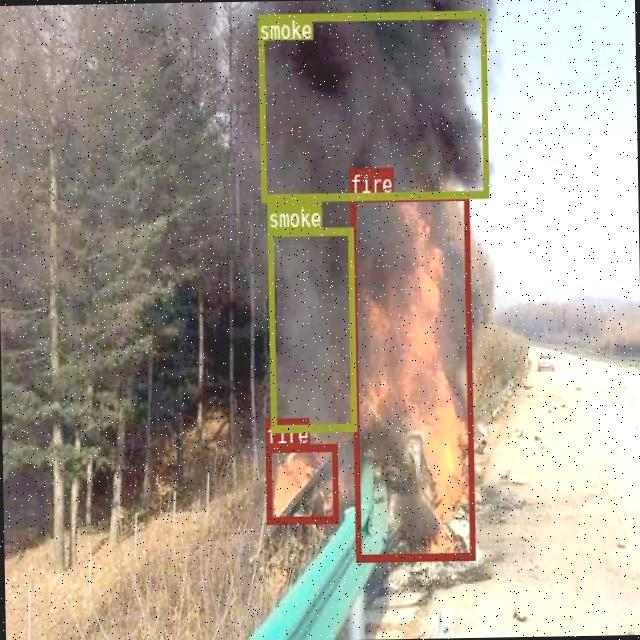fire: (349, 190, 474, 560), (264, 443, 337, 522)
smoke: (258, 10, 488, 199), (266, 226, 356, 431)
